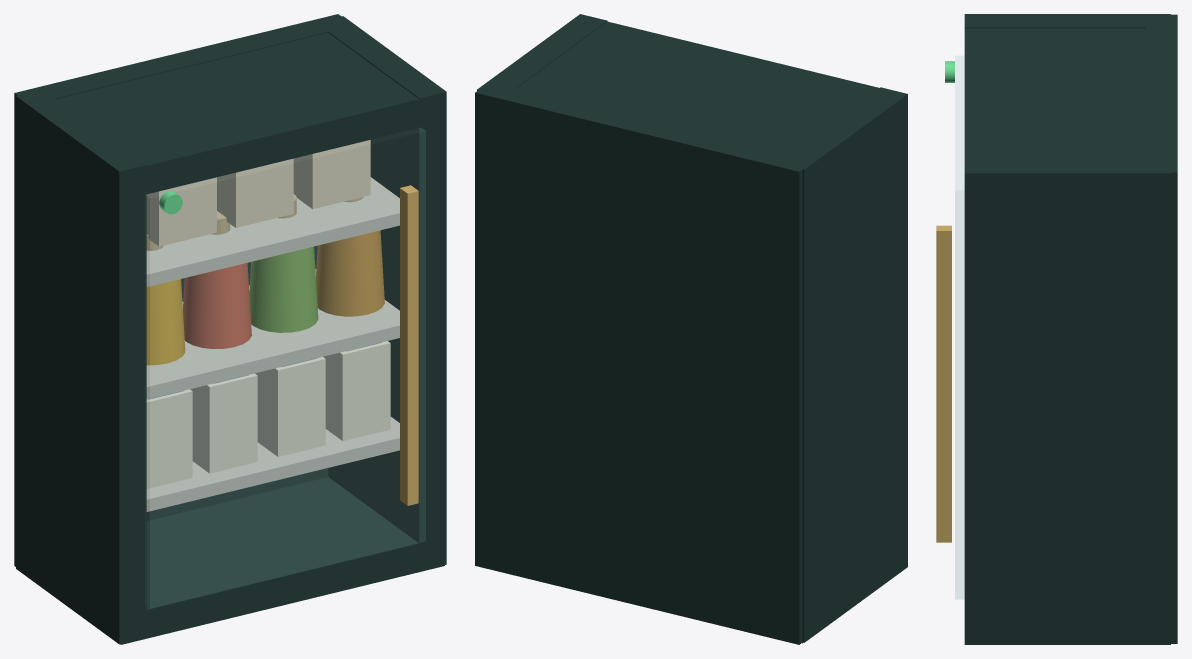
The model's file is ingredient-fridge.glb.
3 renders of one model, left to right at view 1: azimuth 30°, elevation 25°; view 2: azimuth 150°, elevation 25°; view 3: azimuth 270°, elevation 25°, orthographic.
Parts seen in each view (by area): view 1: GlassDoor, LeftFrame, TopFrame, FloorBase, CoolingShelf (×3), RightFrame, MilkCarton (×4), FruitSyrupBottle (×4), FreshIngredientBox (×3), BackPanel, DoorHandle; view 2: BackPanel, LeftFrame, TopFrame, RightFrame; view 3: RightFrame, TopFrame, BackPanel, DoorHandle, GlassDoor, LeftFrame.
Part boxes in pixels (<box>): GlassDoor: <box>145,128,425,607</box>; LeftFrame: <box>16,90,146,644</box>; TopFrame: <box>57,32,444,199</box>; FloorBase: <box>120,477,444,644</box>; CoolingShelf (×3): <box>146,177,399,511</box>; RightFrame: <box>317,16,446,564</box>; MilkCarton (×4): <box>146,341,390,488</box>; FruitSyrupBottle (×4): <box>146,230,384,365</box>; FreshIngredientBox (×3): <box>146,140,370,246</box>; BackPanel: <box>14,14,353,566</box>; DoorHandle: <box>400,185,418,505</box>; BackPanel: <box>475,81,814,644</box>; LeftFrame: <box>790,87,907,642</box>; TopFrame: <box>517,21,878,153</box>; RightFrame: <box>477,14,607,95</box>; RightFrame: <box>964,160,1170,644</box>; TopFrame: <box>964,28,1146,159</box>; BackPanel: <box>1146,14,1177,643</box>; DoorHandle: <box>936,225,951,542</box>; GlassDoor: <box>955,56,963,598</box>; LeftFrame: <box>964,14,1170,28</box>.
Bounding box in the file's own units: 1.92 × 2.66 × 1.23.
